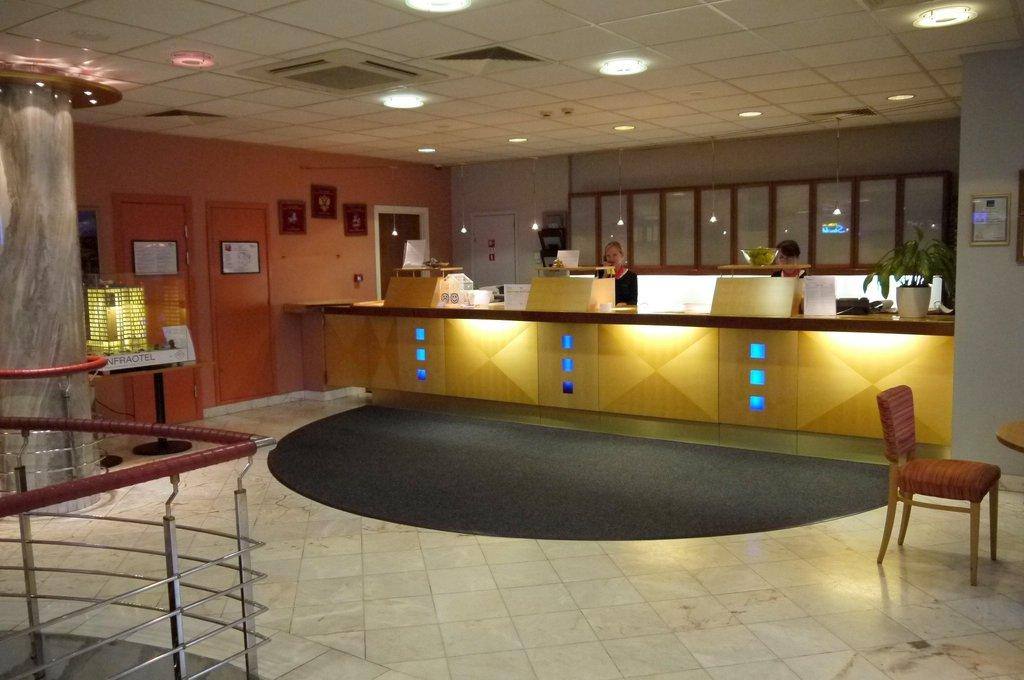Chair: (875, 391, 1014, 588)
